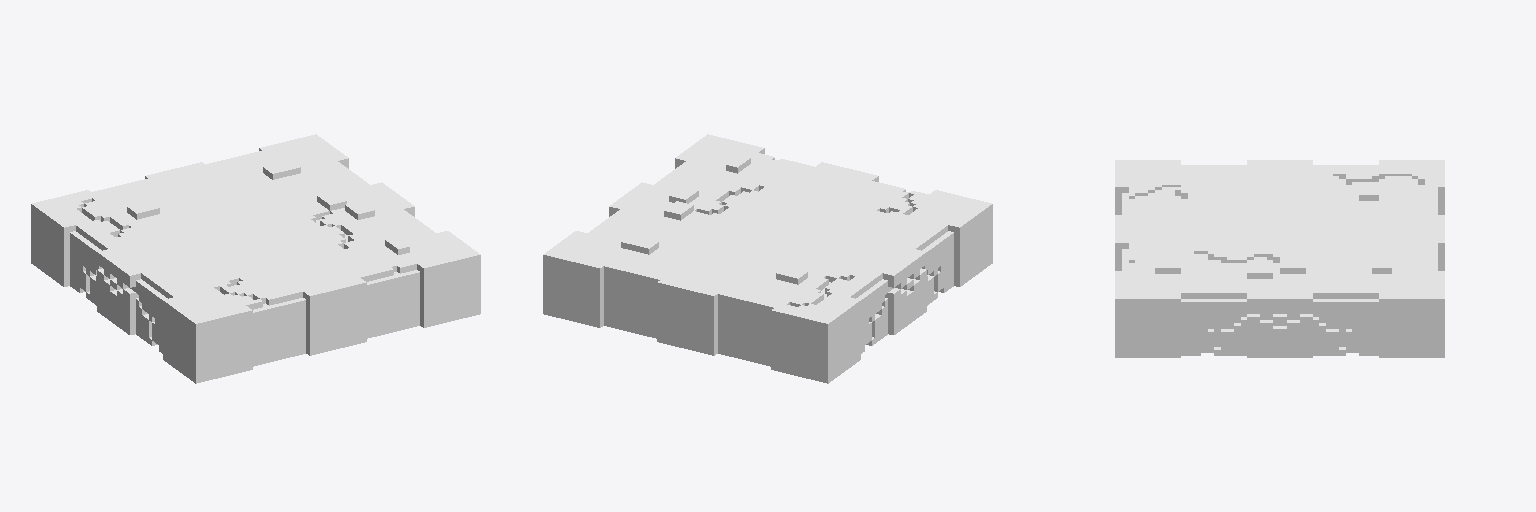
File: vox-41-Floo_Carpet.obj
3 renders of one model, left to right at view 1: azimuth 30°, elevation 25°; view 2: azimuth 150°, elevation 25°; view 3: azimuth 270°, elevation 25°, orthographic.
Visible parts, largest first — view 1: Floo_Carpet; view 2: Floo_Carpet; view 3: Floo_Carpet.
Part boxes in pixels (x1,y1,x2,y2): Floo_Carpet: (31, 134, 480, 383); Floo_Carpet: (543, 134, 992, 383); Floo_Carpet: (1115, 160, 1444, 357).
Bounding box in the file's own units: 5 × 1.1 × 5.